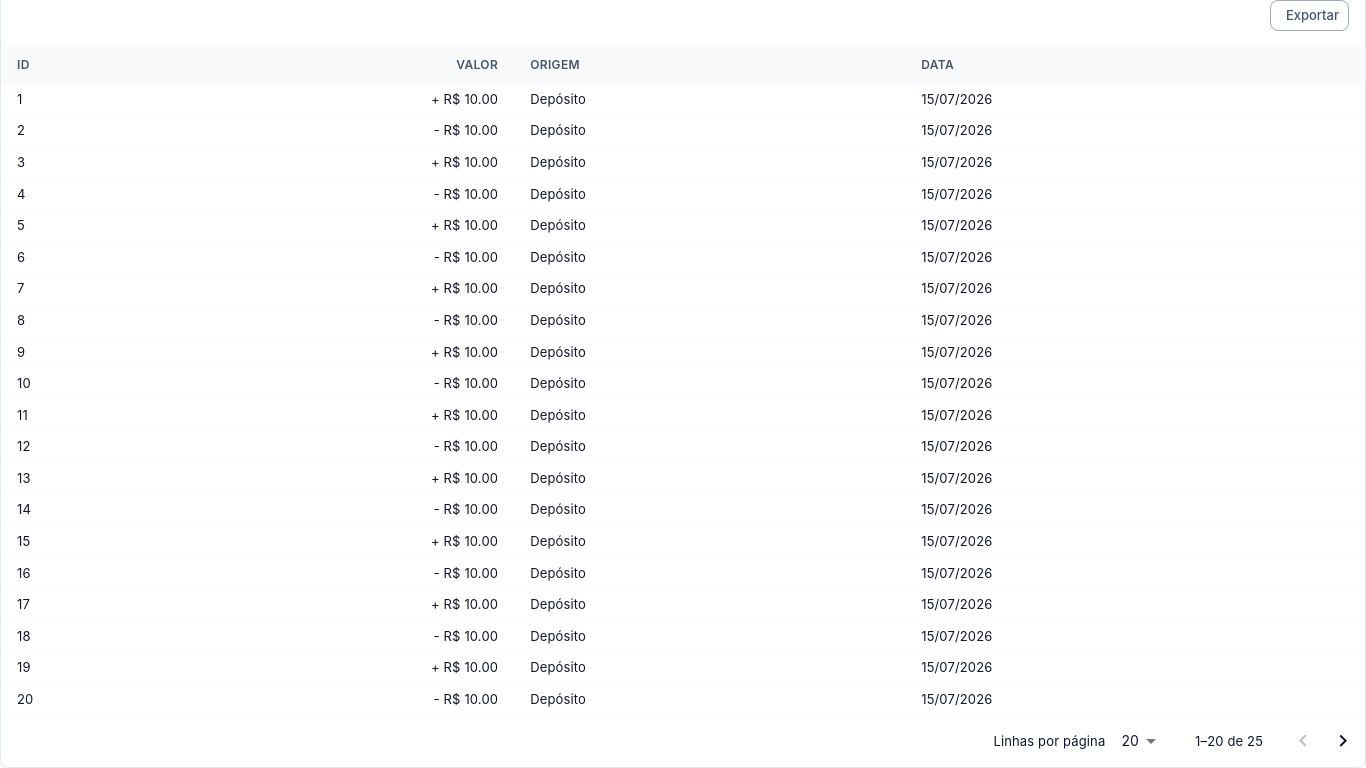
Test: ExtractTable › pagina no cliente sobre a lista já carregada (backend não pagina o extrato)
The width and height of the screenshot is (1366, 768).
(page scrolled)
Expected: the text "1–20 de 25" is shown, [1195,732,1263,751]
Step 1. Click the button named "Go to next page" → (1343, 741), box [1323,721,1363,761]
(page scrolled)
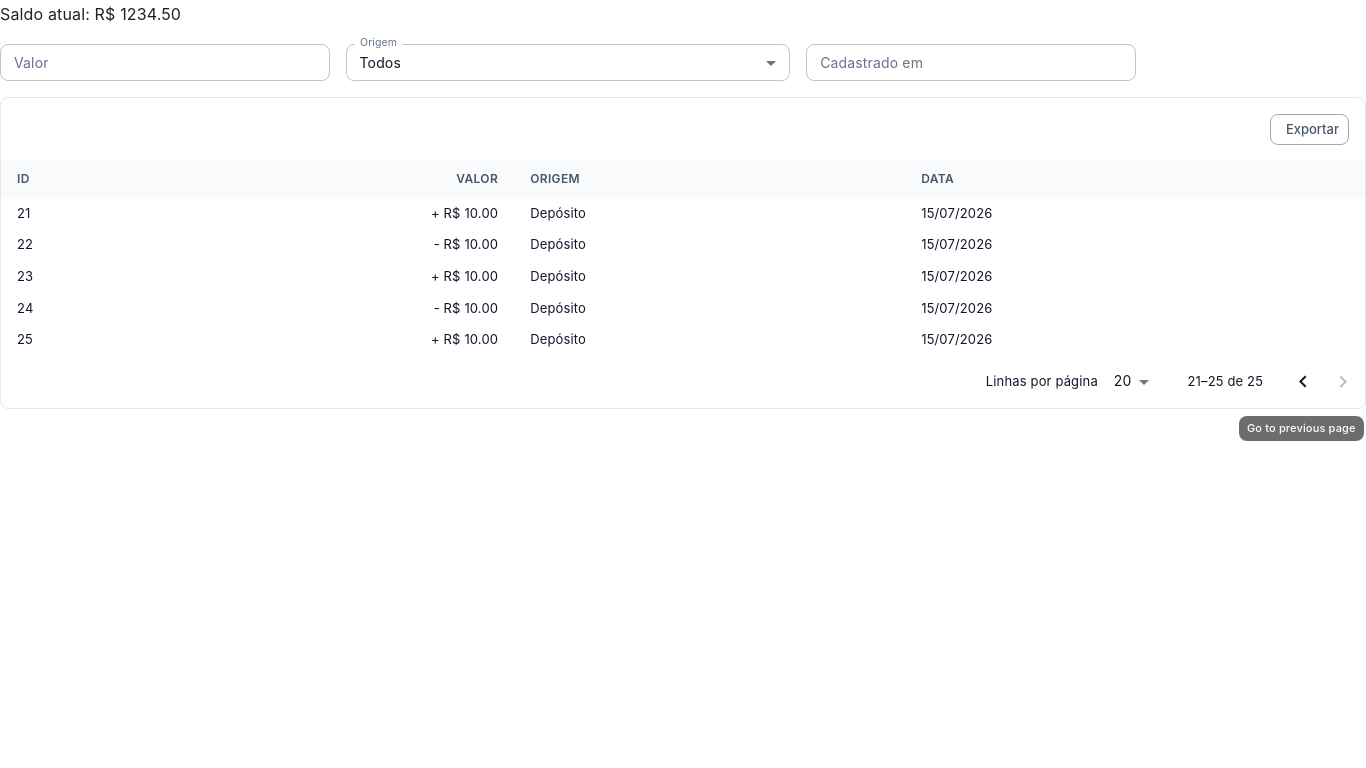
Now the text "Depósito" is shown 5 times, box [514,198,905,230]; [514,230,905,261]; [514,261,905,293]; [514,293,905,324]; [514,324,905,356]
